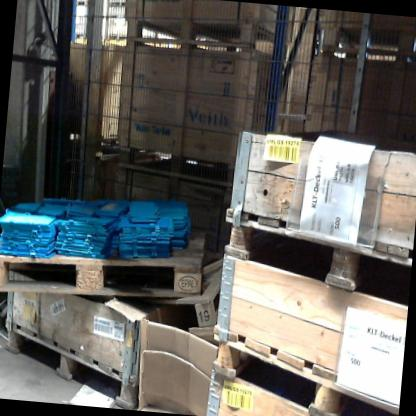pallet: (0, 208, 207, 308), (218, 207, 415, 308), (206, 324, 405, 416), (0, 319, 144, 410), (125, 13, 276, 56), (122, 149, 236, 188), (316, 21, 416, 65)
